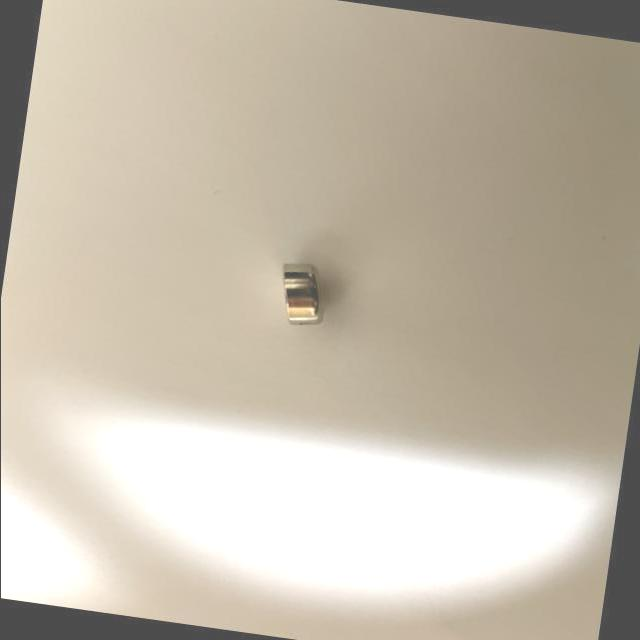COIN: (272, 257, 333, 328)
